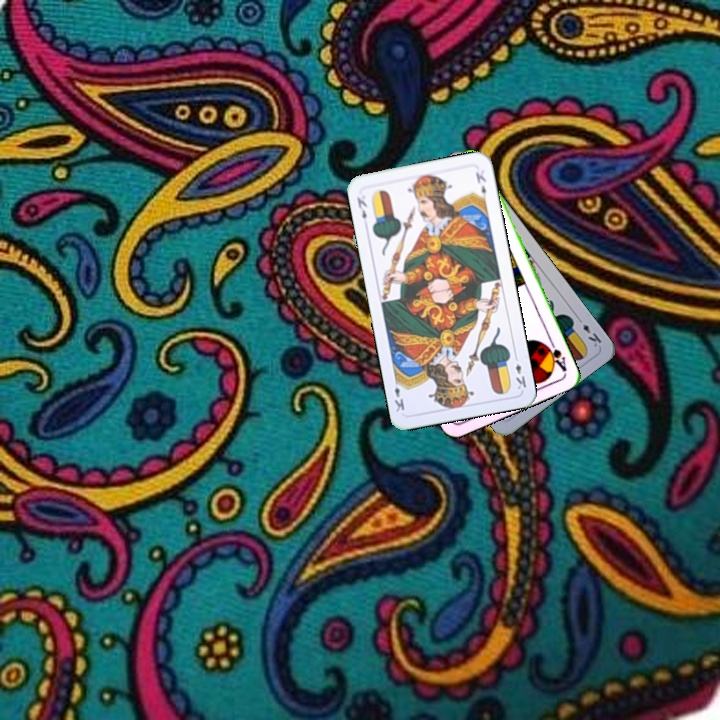EK: (573, 313, 604, 350), (510, 351, 529, 392), (353, 193, 370, 222)
SA: (540, 336, 569, 374)
